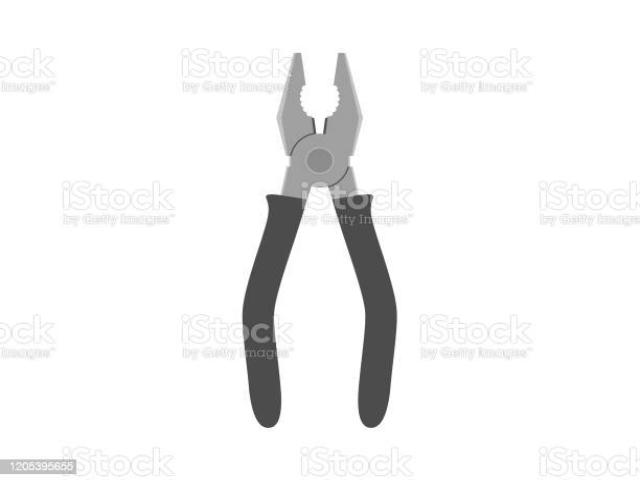Pliers: (242, 53, 396, 427)
